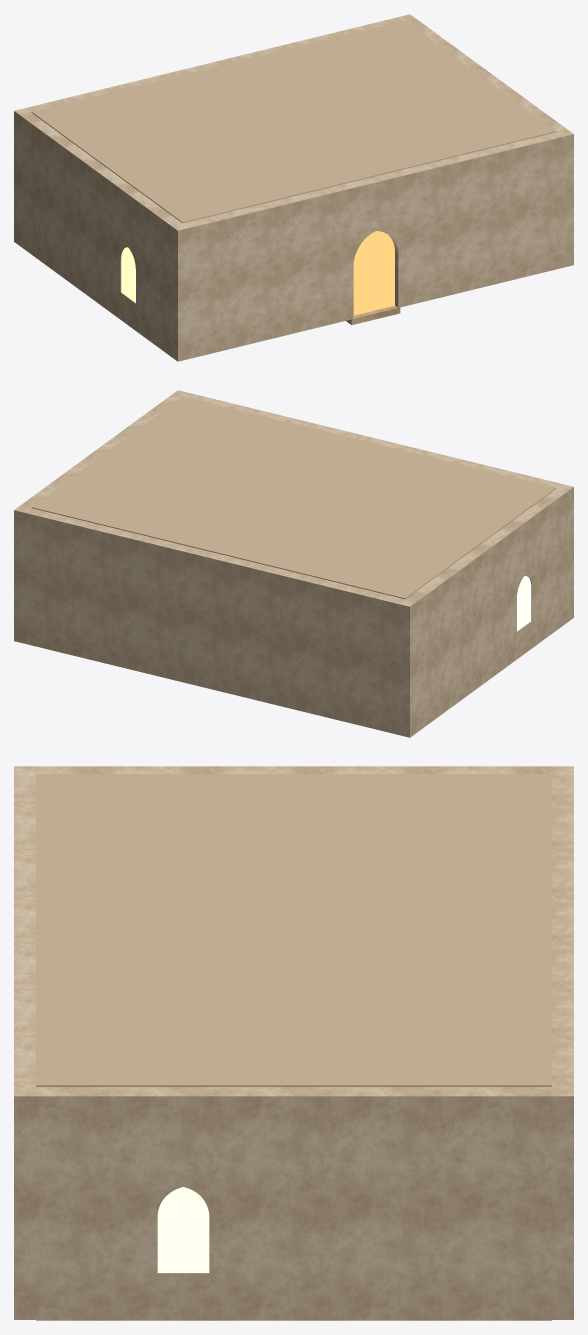
The model's file is station_nav.glb.
The picture shows the model from 3 angles, top to bottom: view 1: azimuth 30°, elevation 25°; view 2: azimuth 150°, elevation 25°; view 3: azimuth 270°, elevation 25°; orthographic projection. The views are drawn at different scales.
Parts seen in each view (by area): view 1: nav_Static, Portal_exit, Window_Glow; view 2: nav_Static, Window_Glow; view 3: nav_Static, Window_Glow.
Boxes of the visible parts, x1,y1,x2,y2 form: nav_Static: (14, 14, 573, 361); Portal_exit: (353, 231, 394, 315); Window_Glow: (121, 247, 135, 302); nav_Static: (14, 390, 573, 737); Window_Glow: (517, 576, 531, 631); nav_Static: (14, 766, 573, 1320); Window_Glow: (157, 1187, 209, 1272).
Size of the model in its own units: 21.2 by 7.05 by 15.2.
19 materials, 8 textured.
